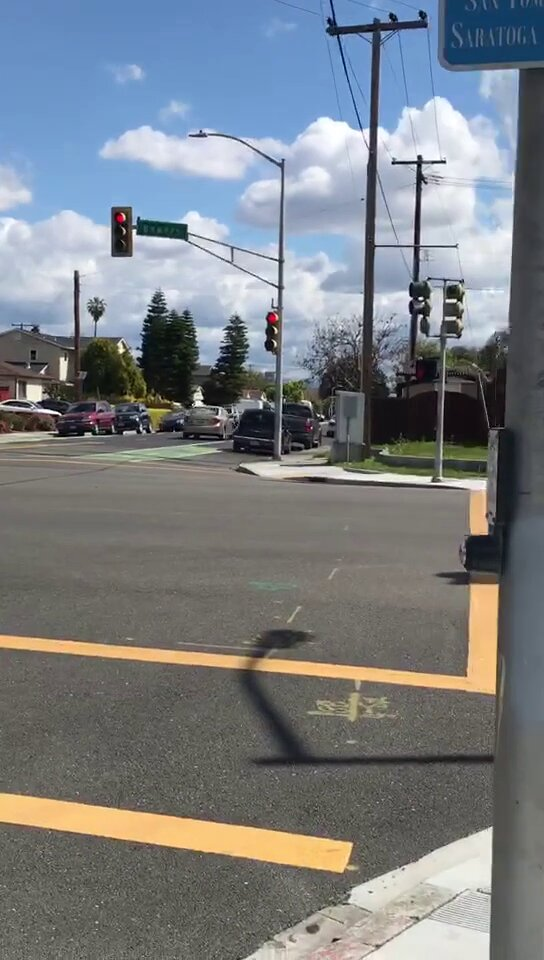red_light: (111, 206, 132, 258), (265, 312, 280, 352)
